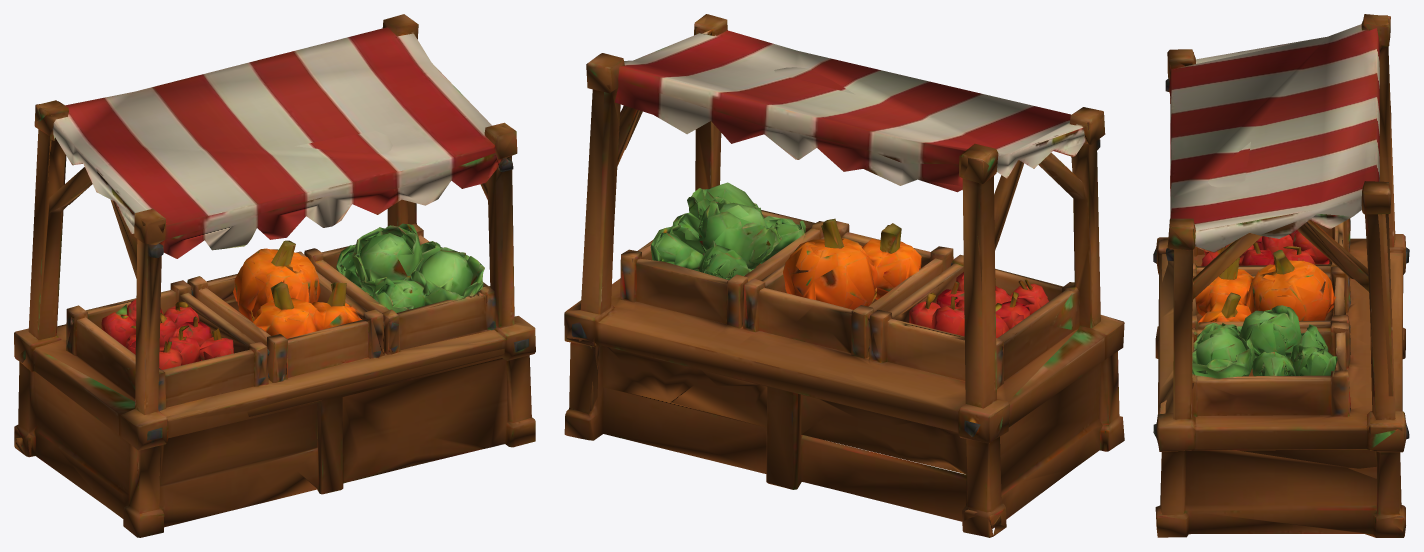
Rendered from market_stall.glb.
The picture shows the model from 3 angles, left to right: view 1: azimuth 30°, elevation 25°; view 2: azimuth 150°, elevation 25°; view 3: azimuth 270°, elevation 25°; orthographic projection. The views are drawn at different scales.
Parts seen in each view (by area): view 1: Mesh_0; view 2: Mesh_0; view 3: Mesh_0.
Part boxes in pixels (x1,y1,x2,y2): Mesh_0: (14, 14, 535, 537); Mesh_0: (564, 14, 1124, 537); Mesh_0: (1153, 14, 1409, 537).
Bounding box in the file's own units: 1.92 × 1.6 × 1.08.
Materials: 1 (1 with a texture image).
